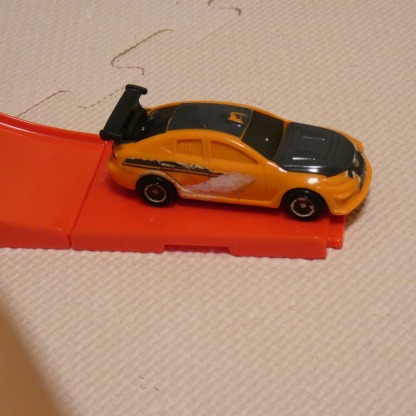car: (110, 81, 369, 219)
